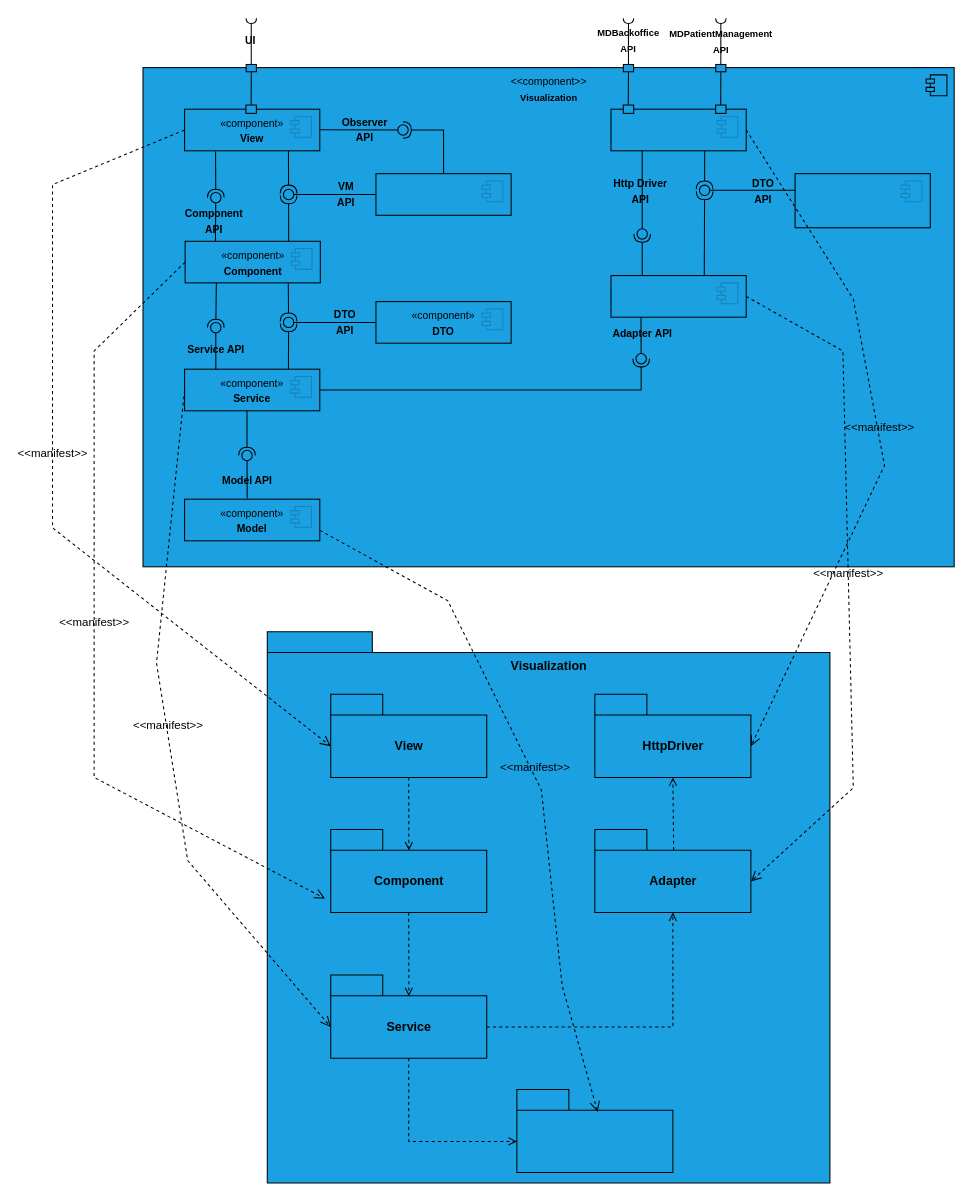
Some shapes in this 972 by 1201 pixel diagram are drawn without their labels. The centre of each missing label's shape, as x and y in pixels:
Model: the point at 594,1130
«component» Adapter: the point at 678,296
«component» DTO External-Internal: the point at 862,200
«component» HTTP Driver: the point at 678,129
«component» View Model: the point at 443,194
